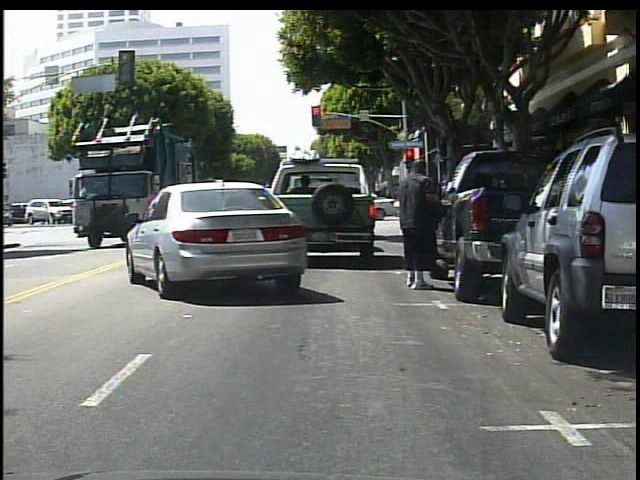person: (398, 156, 448, 292)
